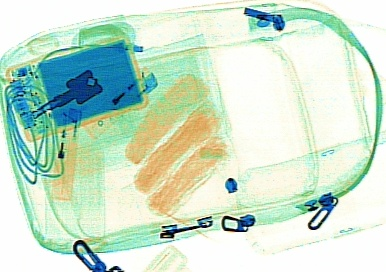lighter: (85, 65, 158, 139), (44, 107, 81, 199)
